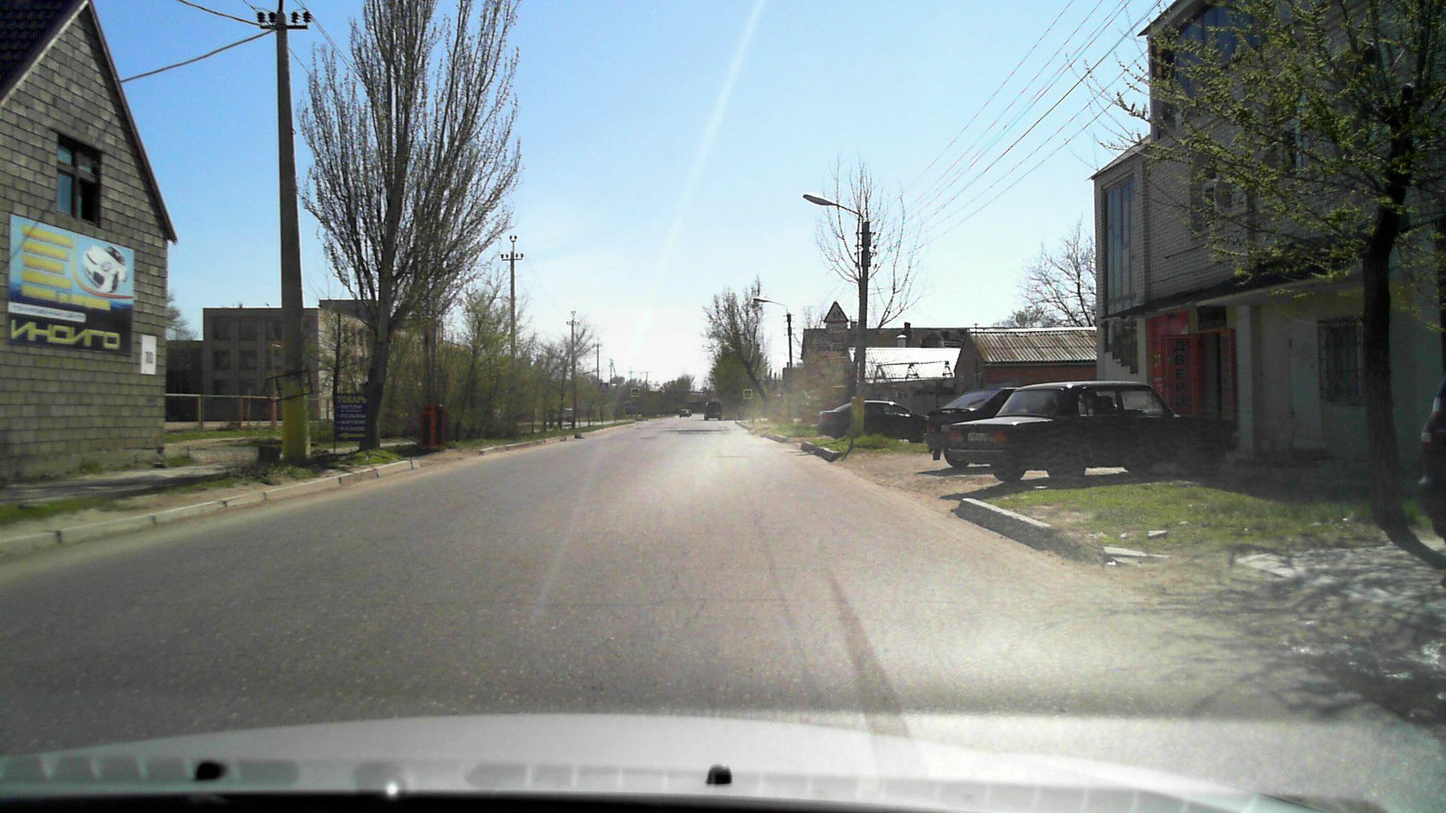road_sign: (822, 300, 850, 322)
